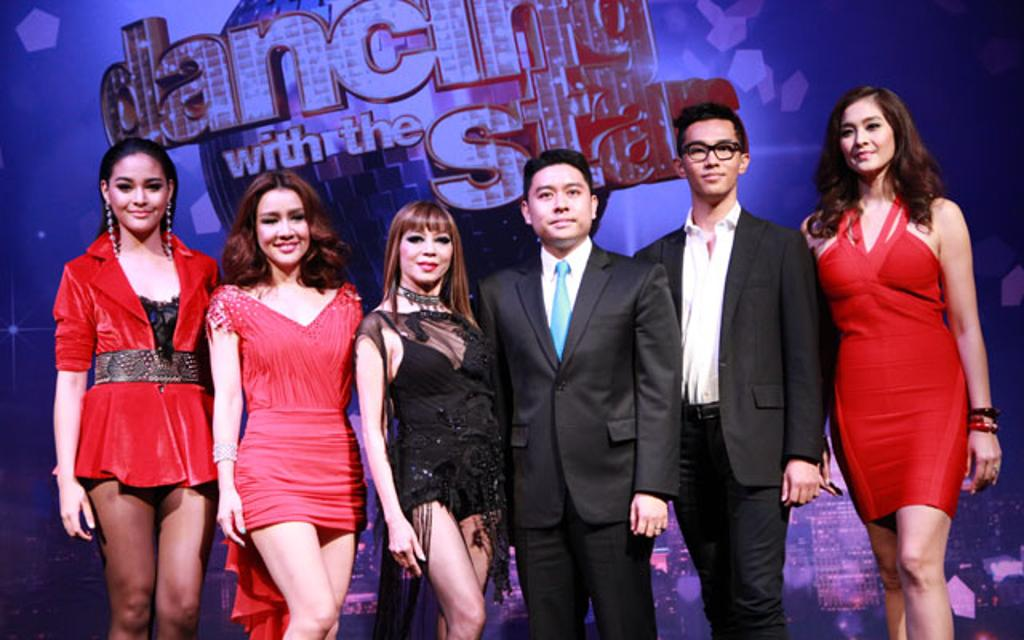face: (109, 152, 168, 233), (530, 163, 589, 242), (839, 95, 895, 177), (684, 119, 740, 198), (255, 187, 309, 266), (400, 219, 452, 284)
